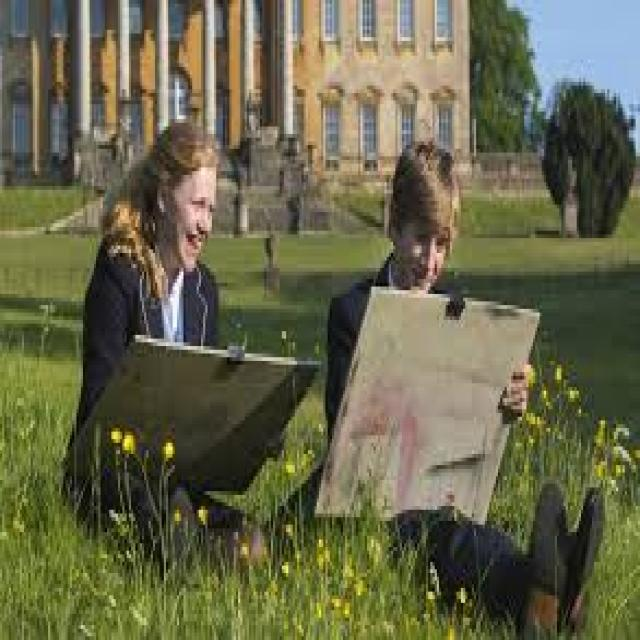nonfall: (335, 120, 612, 610), (71, 123, 257, 549)
